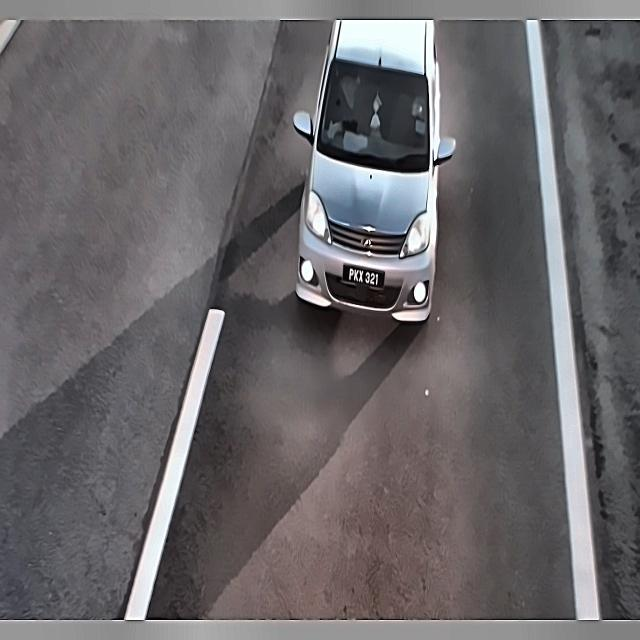car: (341, 259, 389, 293)
